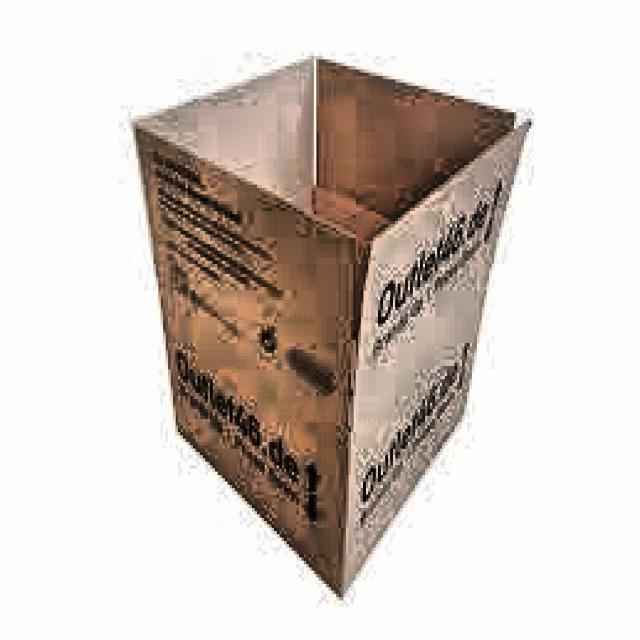cardboard: (128, 50, 532, 598)
